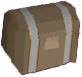chest: (1, 1, 82, 76)
